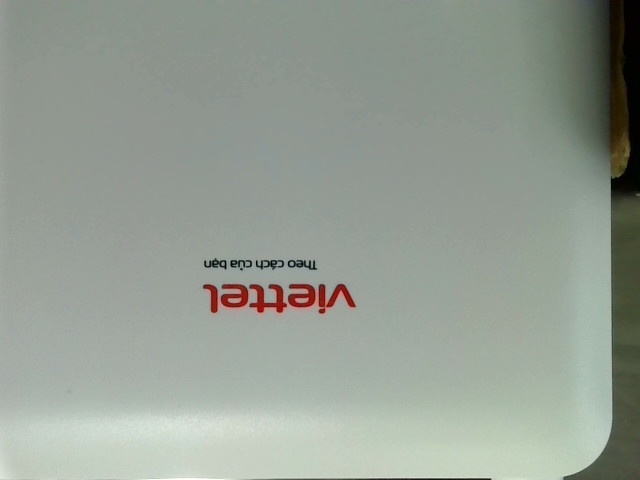AY_Viettel: (196, 255, 361, 318)
